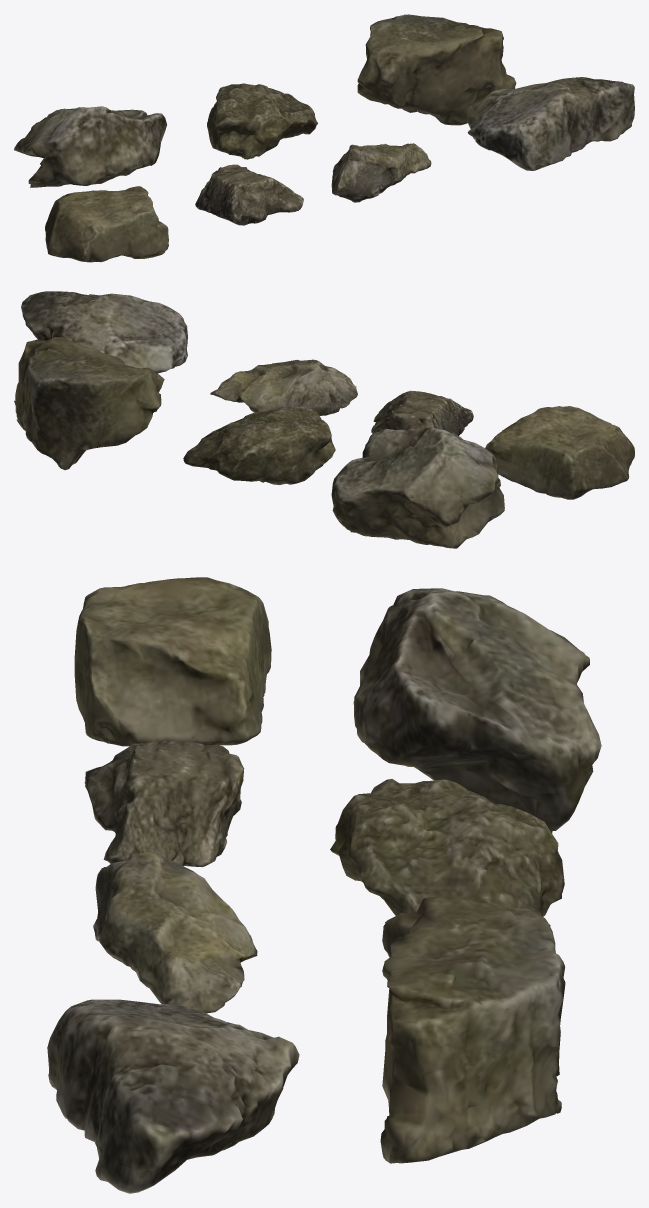
File: rock_moss_set_02.glb
The picture shows the model from 3 angles, top to bottom: view 1: azimuth 30°, elevation 25°; view 2: azimuth 150°, elevation 25°; view 3: azimuth 270°, elevation 25°; orthographic projection. The views are drawn at different scales.
Parts seen in each view (by area): view 1: rock_moss_set_02_rock13, rock_moss_set_02_rock10, rock_moss_set_02_rock11, rock_moss_set_02_rock07, rock_moss_set_02_rock12, rock_moss_set_02_rock08, rock_moss_set_02_rock09; view 2: rock_moss_set_02_rock11, rock_moss_set_02_rock13, rock_moss_set_02_rock07, rock_moss_set_02_rock10, rock_moss_set_02_rock12, rock_moss_set_02_rock09, rock_moss_set_02_rock08; view 3: rock_moss_set_02_rock13, rock_moss_set_02_rock11, rock_moss_set_02_rock10, rock_moss_set_02_rock07, rock_moss_set_02_rock12, rock_moss_set_02_rock09, rock_moss_set_02_rock08.
Boxes of the visible parts, left/top/right/bottom form: rock_moss_set_02_rock13: left=357, top=14, right=516, bottom=125; rock_moss_set_02_rock10: left=467, top=77, right=634, bottom=170; rock_moss_set_02_rock11: left=14, top=106, right=166, bottom=187; rock_moss_set_02_rock07: left=45, top=186, right=168, bottom=262; rock_moss_set_02_rock12: left=207, top=83, right=317, bottom=159; rock_moss_set_02_rock08: left=195, top=164, right=303, bottom=225; rock_moss_set_02_rock09: left=331, top=143, right=431, bottom=202; rock_moss_set_02_rock11: left=331, top=427, right=504, bottom=548; rock_moss_set_02_rock13: left=14, top=337, right=164, bottom=470; rock_moss_set_02_rock07: left=485, top=406, right=634, bottom=499; rock_moss_set_02_rock10: left=21, top=291, right=187, bottom=373; rock_moss_set_02_rock12: left=183, top=406, right=335, bottom=484; rock_moss_set_02_rock09: left=210, top=359, right=357, bottom=415; rock_moss_set_02_rock08: left=371, top=390, right=473, bottom=435; rock_moss_set_02_rock13: left=380, top=895, right=565, bottom=1163; rock_moss_set_02_rock11: left=353, top=588, right=601, bottom=833; rock_moss_set_02_rock10: left=47, top=999, right=299, bottom=1193; rock_moss_set_02_rock07: left=74, top=577, right=271, bottom=746; rock_moss_set_02_rock12: left=330, top=779, right=564, bottom=926; rock_moss_set_02_rock09: left=93, top=851, right=257, bottom=1013; rock_moss_set_02_rock08: left=84, top=741, right=244, bottom=867.
Bounding box in the file's own units: 8.28 × 1.37 × 3.41.
1 material, 1 textured.
